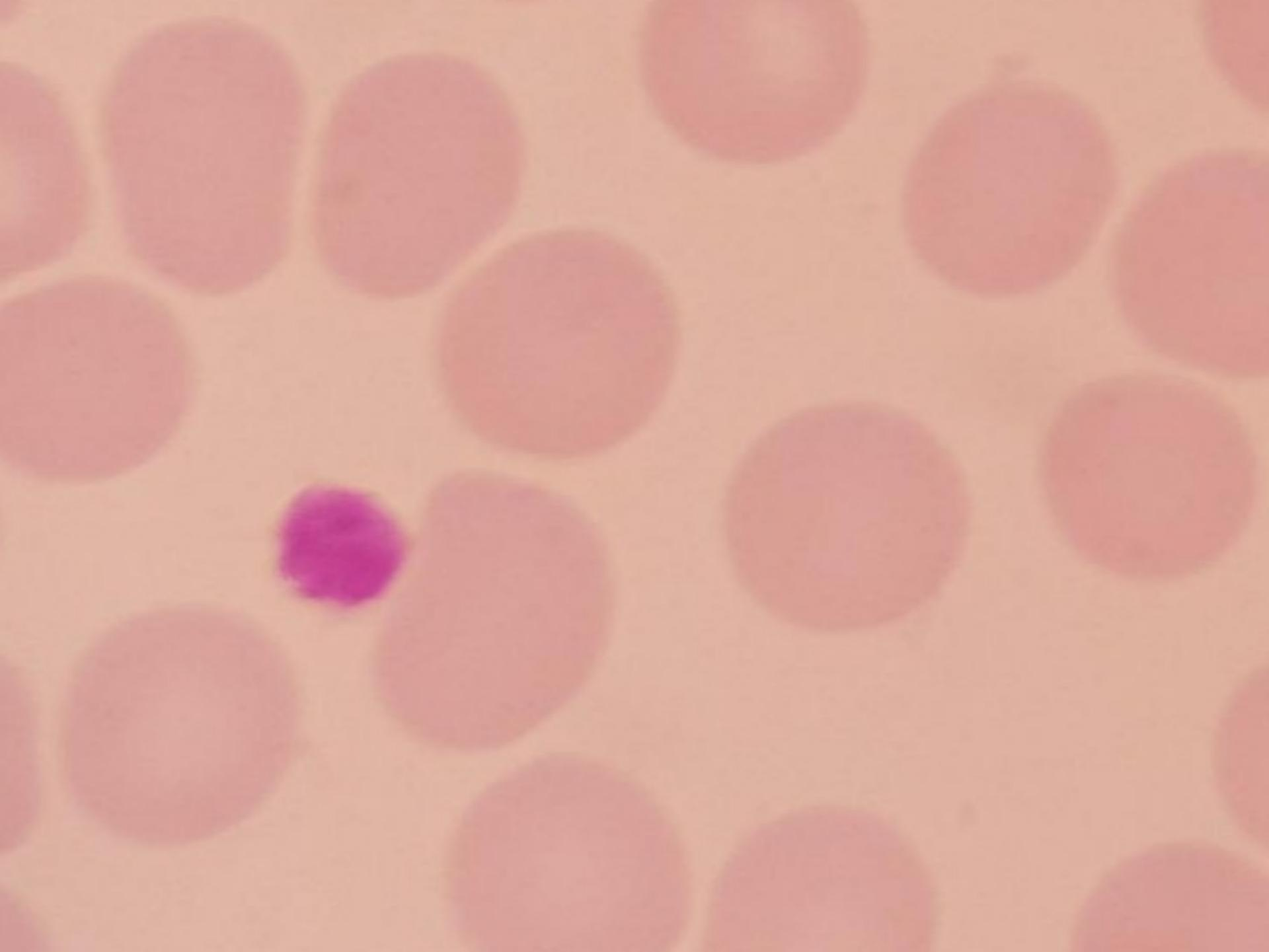Uninfected: (375, 473, 613, 751), (61, 602, 302, 850), (433, 225, 675, 456), (727, 398, 966, 631), (107, 17, 302, 291), (314, 50, 522, 299), (443, 755, 688, 952), (907, 80, 1119, 298), (1044, 377, 1255, 579), (0, 278, 192, 481), (641, 0, 861, 163), (1115, 149, 1269, 377), (707, 807, 935, 952)
